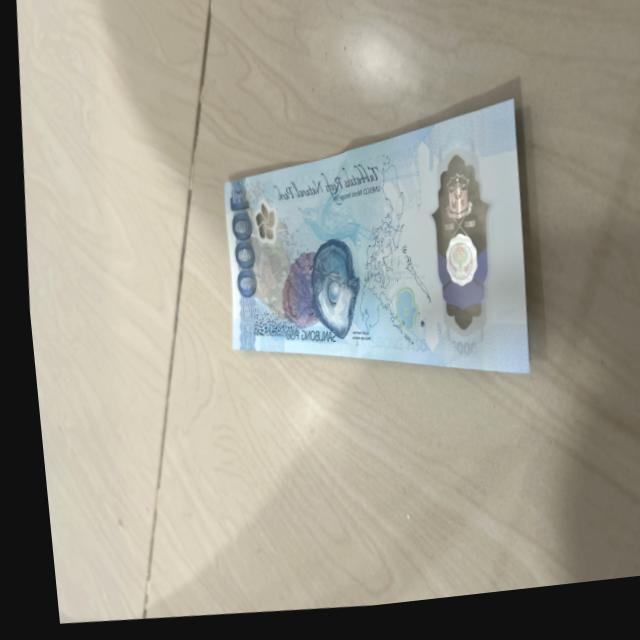clear_window: (415, 142, 498, 351)
sampaguita: (245, 202, 278, 252)
